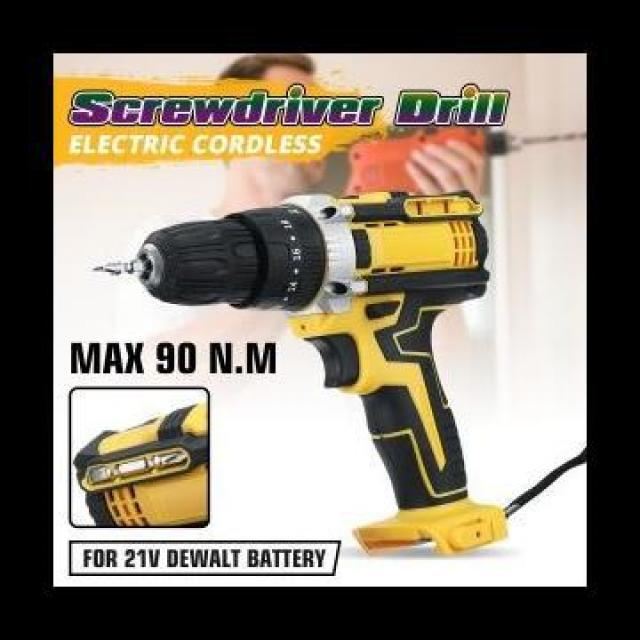Drill: (92, 188, 511, 558), (75, 403, 208, 525), (344, 126, 525, 198)
